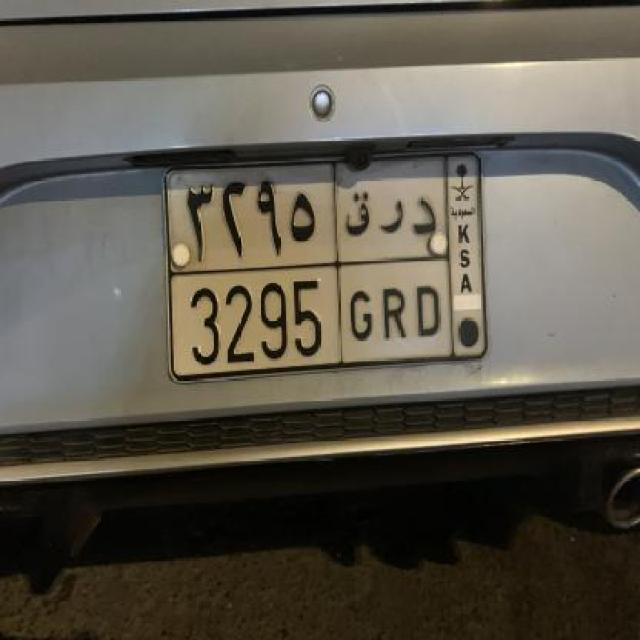license_plate: (159, 148, 492, 389)
